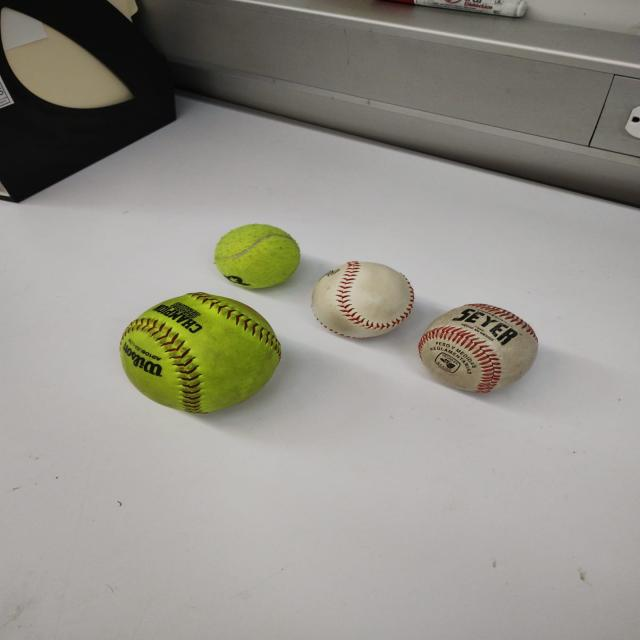beisbol ball: (417, 304, 540, 394), (311, 262, 417, 338)
softball ball: (119, 293, 283, 415)
tenis ball: (212, 223, 301, 288)
